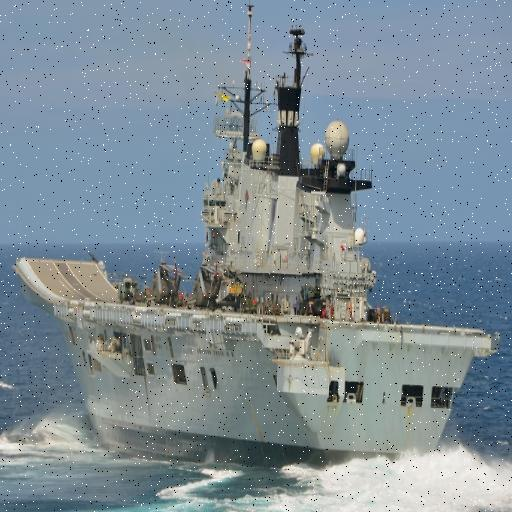Portanaves: (12, 1, 500, 478)
